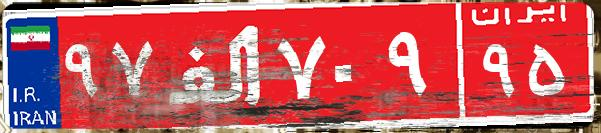0: (330, 28, 385, 110)
5: (525, 38, 570, 115)
7: (273, 28, 330, 110), (110, 28, 158, 105)
9: (385, 28, 445, 110), (57, 26, 110, 107), (475, 38, 525, 113)
الف: (158, 15, 273, 115)
